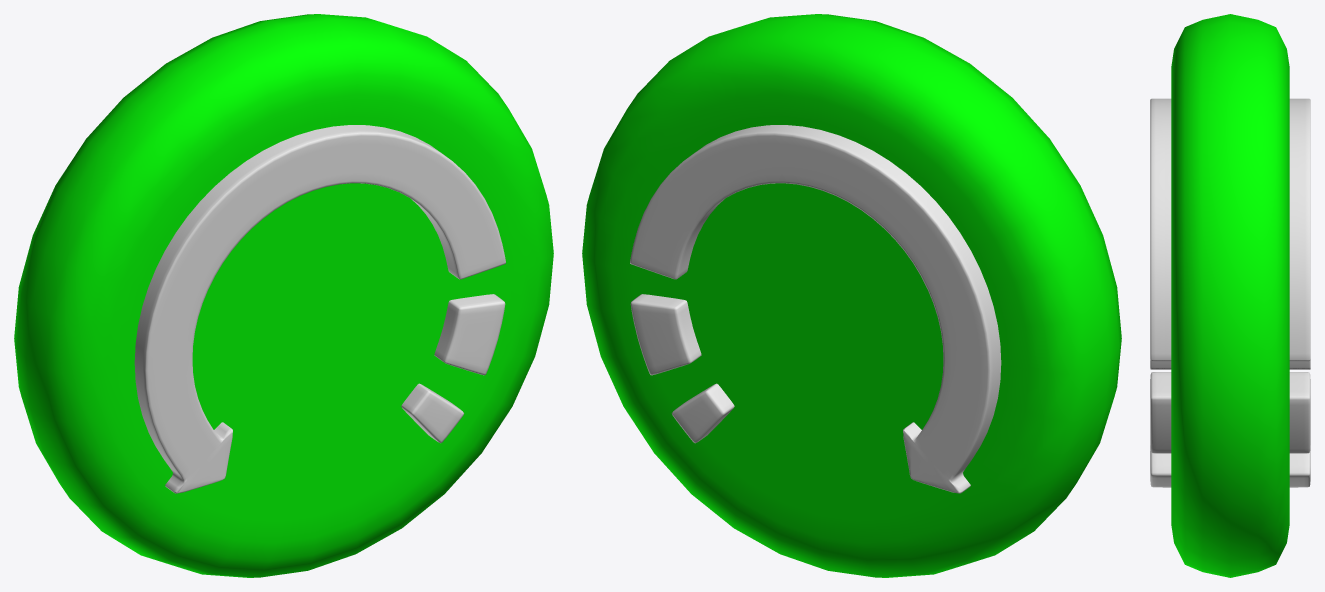
Rendered from loading.glb.
The picture shows the model from 3 angles, left to right: view 1: azimuth 30°, elevation 25°; view 2: azimuth 150°, elevation 25°; view 3: azimuth 270°, elevation 25°; orthographic projection. The views are drawn at different scales.
Visible parts, largest first — view 1: Circle, Plane; view 2: Circle; view 3: Circle, Plane.
Boxes of the visible parts, box(x1,y1,x2,y2) form: Circle: box(14, 14, 553, 577); Plane: box(135, 125, 451, 486); Circle: box(582, 14, 1121, 577); Circle: box(1150, 14, 1310, 577); Plane: box(1165, 98, 1171, 369).
Size of the model in its own units: 2.04 by 2.04 by 0.5809.
